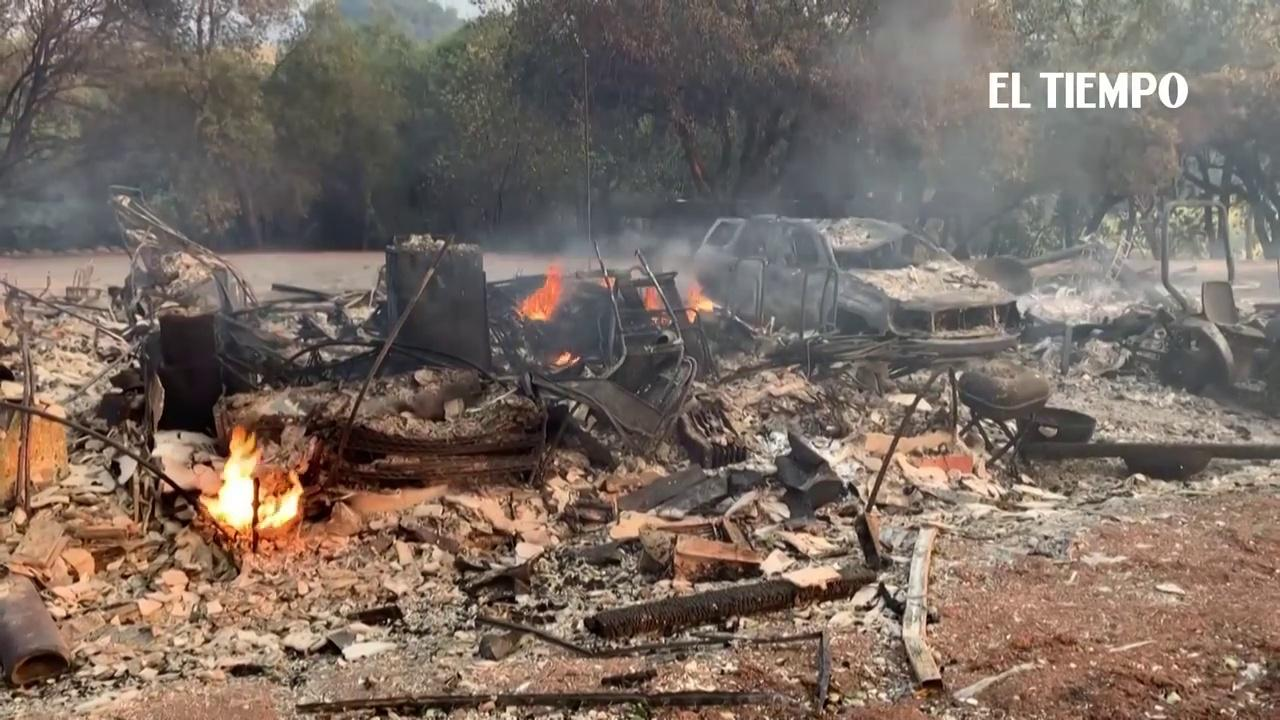Fire: (210, 429, 310, 536), (512, 261, 563, 319), (688, 292, 713, 320), (553, 351, 576, 366)
